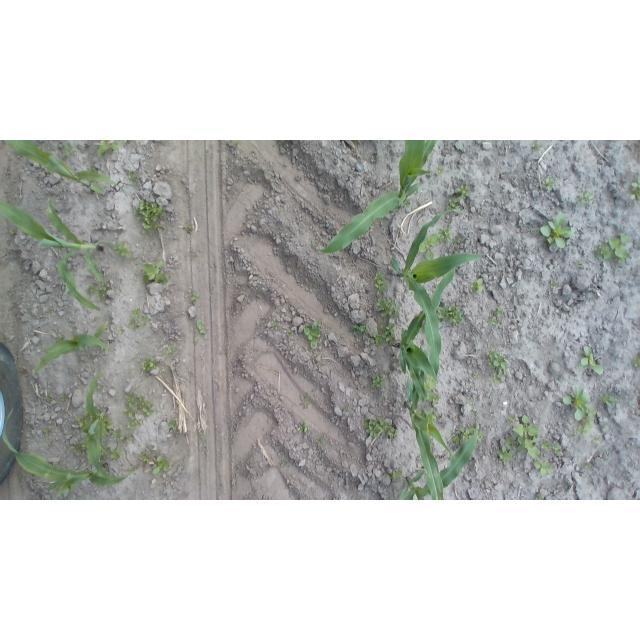Maize: (310, 140, 438, 252), (397, 352, 479, 501), (391, 209, 462, 377), (1, 409, 135, 498), (0, 198, 106, 310), (396, 266, 456, 401), (2, 140, 130, 198), (30, 321, 115, 400), (85, 370, 116, 480)
Weeds: (540, 212, 575, 249), (512, 414, 540, 459), (134, 198, 167, 234), (420, 228, 453, 261), (596, 233, 631, 263), (563, 387, 590, 421), (362, 418, 399, 440), (124, 392, 154, 419), (578, 345, 605, 375), (575, 407, 598, 438), (486, 348, 509, 376), (142, 260, 168, 284), (436, 306, 464, 327), (447, 184, 470, 209), (373, 323, 395, 346), (376, 298, 400, 319), (423, 378, 441, 406), (304, 320, 321, 349), (97, 140, 119, 158), (496, 447, 515, 466), (113, 241, 132, 259), (151, 456, 169, 475), (374, 273, 388, 296), (348, 322, 368, 338), (533, 460, 552, 476), (76, 411, 93, 428), (140, 357, 159, 372), (96, 285, 113, 301), (424, 407, 441, 423), (599, 393, 619, 406), (577, 190, 594, 205), (62, 140, 76, 158), (70, 439, 87, 453), (371, 374, 386, 389), (631, 176, 640, 201), (460, 427, 475, 441), (543, 175, 555, 191), (470, 278, 483, 292), (109, 448, 123, 460), (127, 419, 142, 430), (492, 372, 503, 386), (449, 432, 460, 446), (505, 435, 516, 449), (301, 395, 311, 410), (103, 417, 114, 430), (541, 439, 552, 452), (131, 307, 141, 321), (551, 441, 561, 455), (197, 320, 206, 335), (113, 428, 124, 440), (299, 421, 310, 433), (141, 316, 151, 329), (139, 450, 149, 463), (127, 171, 138, 182), (493, 307, 504, 318), (533, 140, 543, 152), (99, 451, 107, 465), (191, 292, 200, 304), (437, 164, 446, 176), (390, 471, 402, 480), (169, 418, 178, 430), (419, 318, 426, 333), (476, 430, 484, 443), (44, 391, 53, 402), (166, 346, 177, 355), (489, 316, 500, 325), (88, 285, 97, 295), (86, 167, 98, 174), (403, 198, 412, 207), (508, 416, 517, 425), (125, 432, 133, 442), (129, 318, 137, 328), (56, 334, 64, 343), (634, 355, 640, 367), (551, 280, 559, 289), (315, 437, 323, 445), (186, 224, 194, 232), (45, 440, 52, 449), (271, 320, 277, 330), (43, 428, 50, 436), (60, 395, 68, 402), (118, 326, 124, 335), (536, 494, 545, 500), (592, 438, 600, 444), (473, 372, 480, 378), (577, 261, 584, 267), (95, 385, 103, 390), (105, 445, 110, 452), (195, 337, 200, 344), (585, 462, 590, 469), (9, 230, 16, 235), (24, 425, 30, 430), (118, 441, 124, 446), (602, 425, 608, 430), (184, 291, 188, 298), (287, 332, 292, 337), (344, 406, 348, 410), (122, 140, 129, 142)
